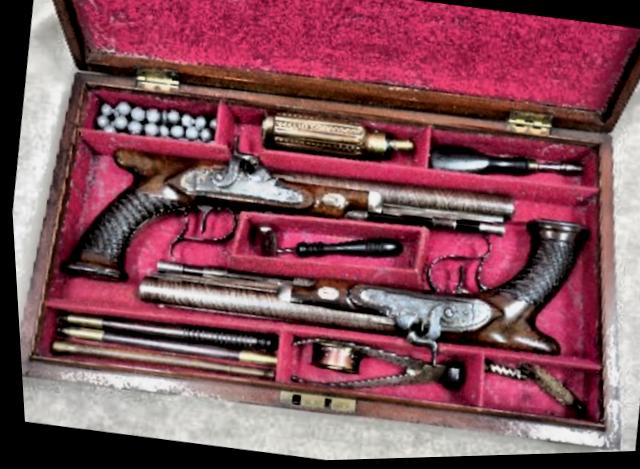pistol: (45, 104, 522, 343), (122, 158, 593, 375)
